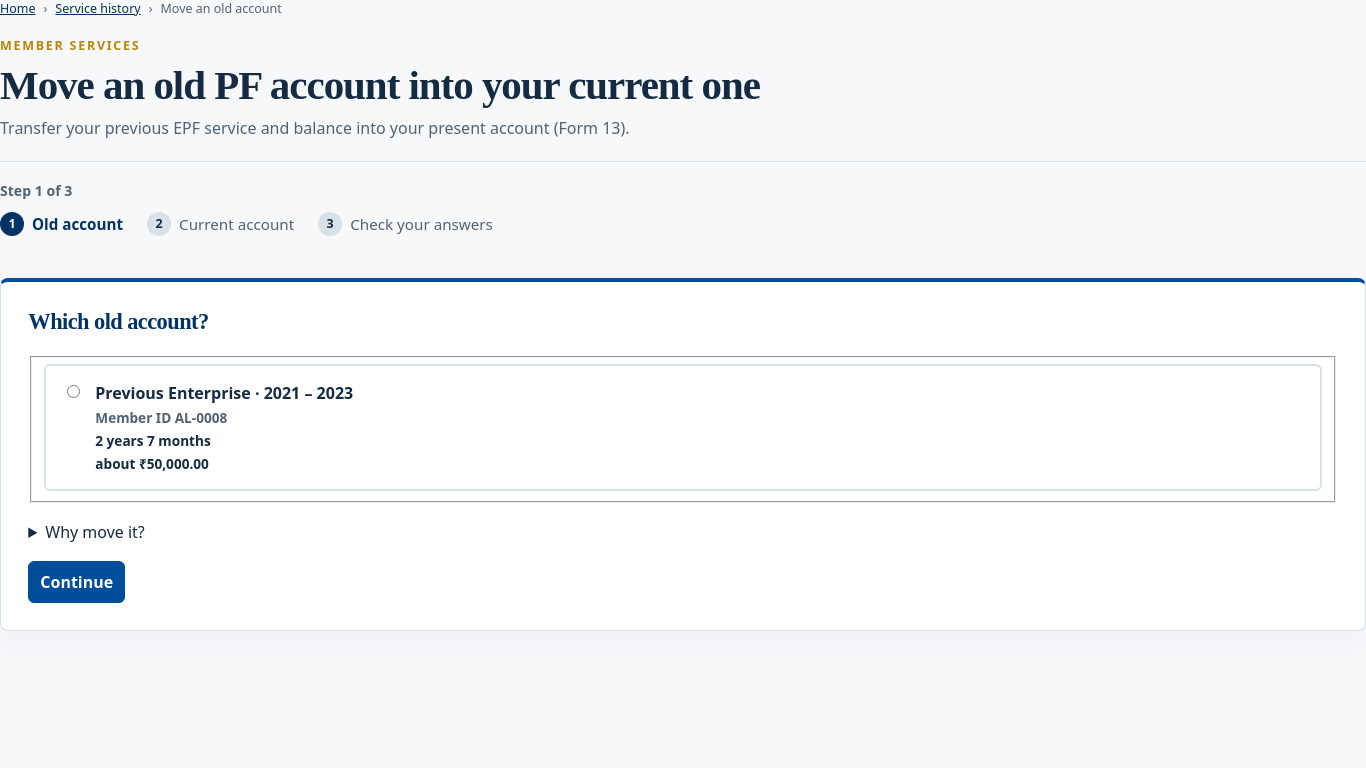
P2.28c TransferJourneyPage › shows old accounts by employer and shows ErrorSummary when continuing without a choice
Expected: the heading "Which old account?" is shown, [28, 309, 209, 334]
Expected: the text "Step 1 of 3" is shown, [0, 181, 72, 200]
// Click Continue without selecting an account
Click the button "Continue".
click(77, 582)  # box [28, 561, 125, 603]
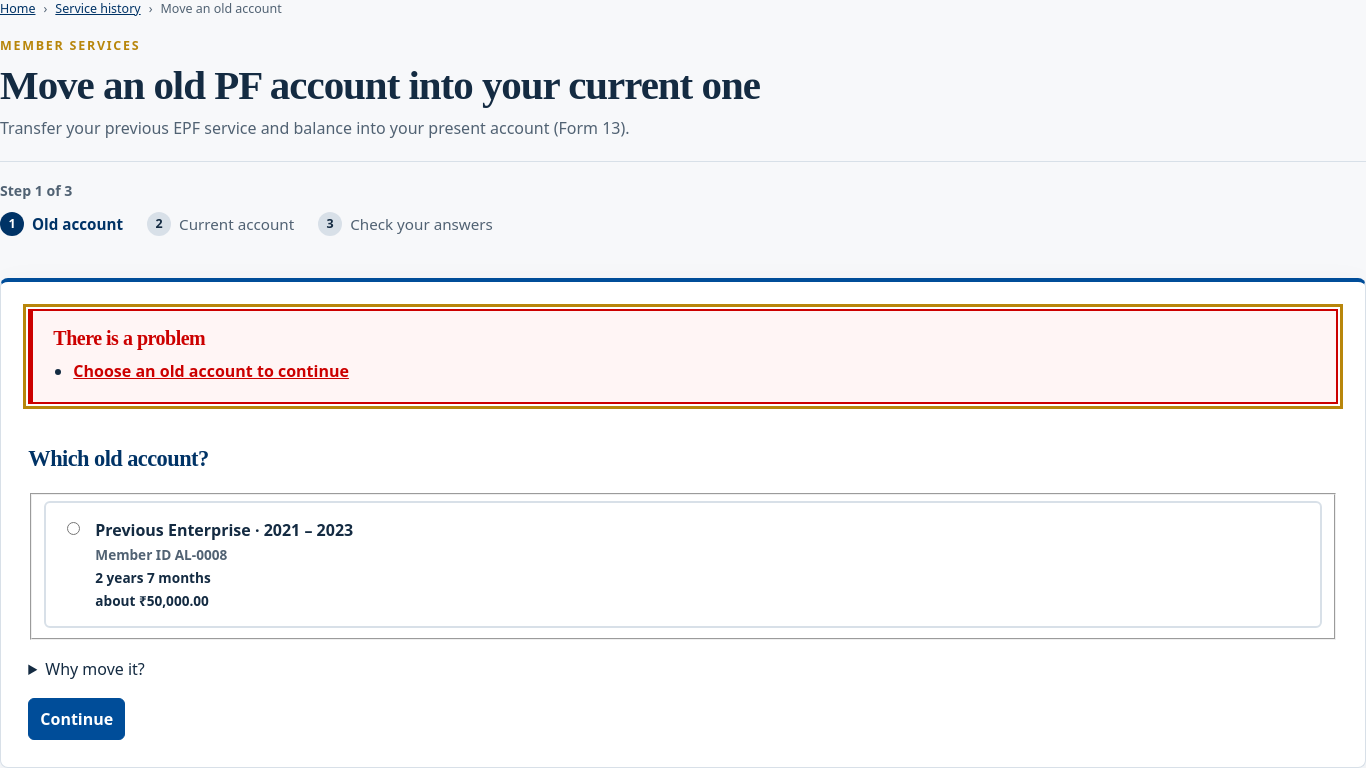
Expected: the message "There is a problem Choose an old account to continue" is shown, [28, 309, 1338, 404]
Expected: the heading "There is a problem" is shown, [53, 327, 205, 349]
// Click the old account radio and continue
Click the radio button.
click(74, 528)  # box [67, 522, 80, 535]
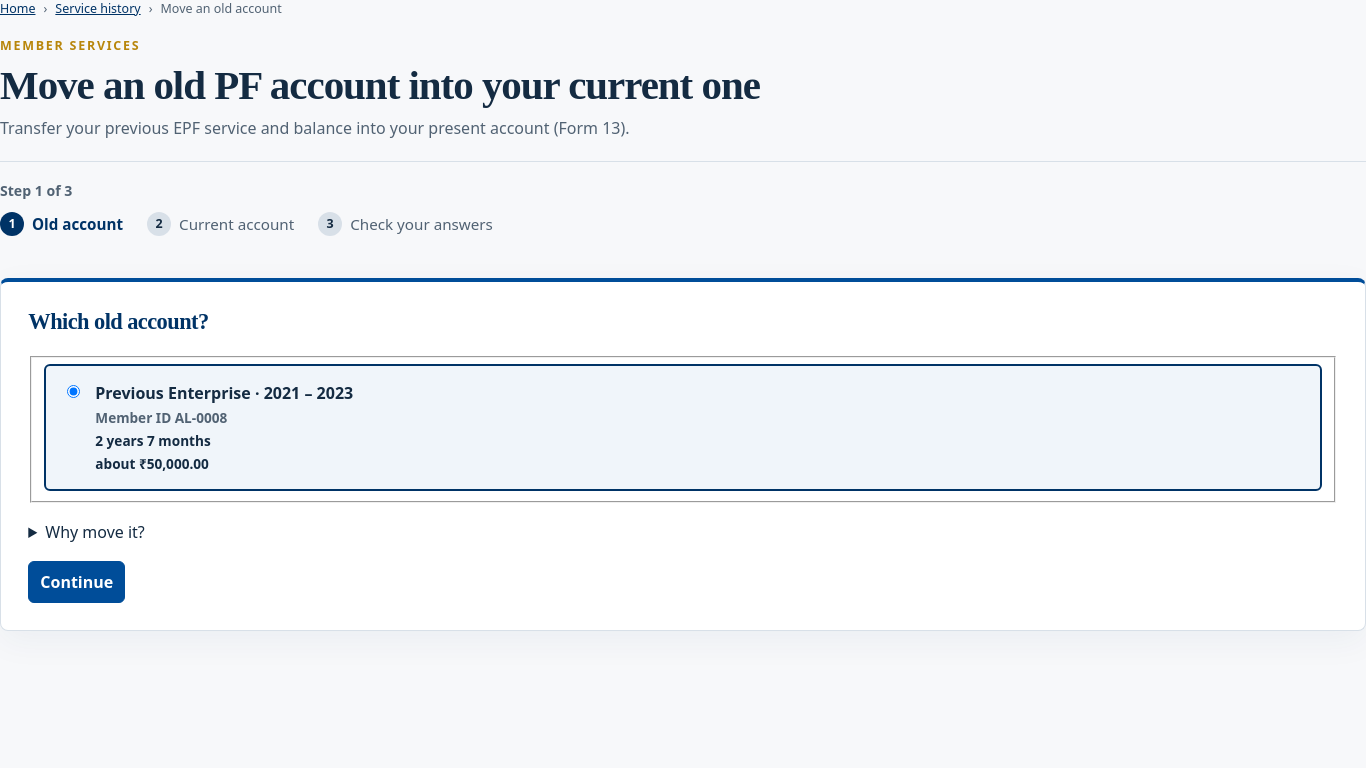
Expected: the radio button is checked, [67, 385, 80, 398]
Click the button "Continue".
click(77, 582)  # box [28, 561, 125, 603]
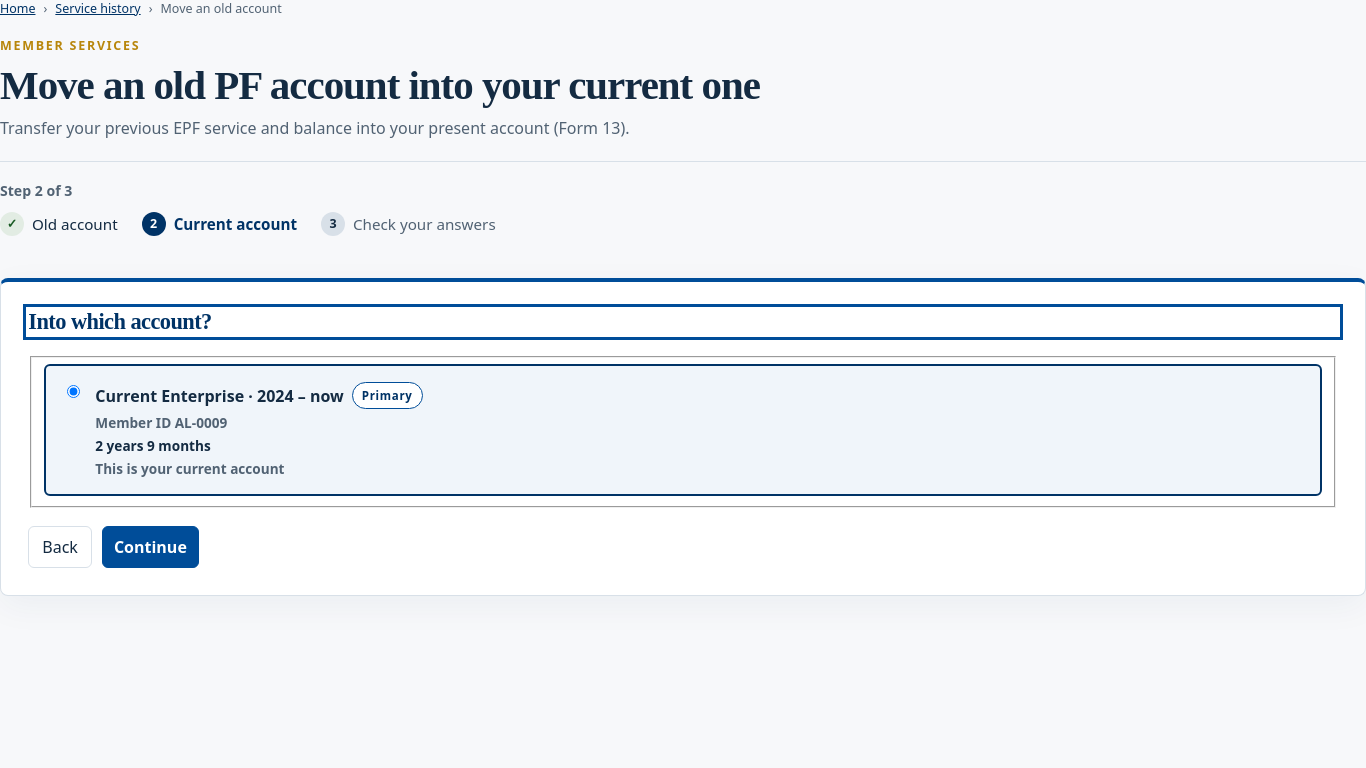
Expected: the heading "Into which account?" is shown, [28, 309, 212, 334]
